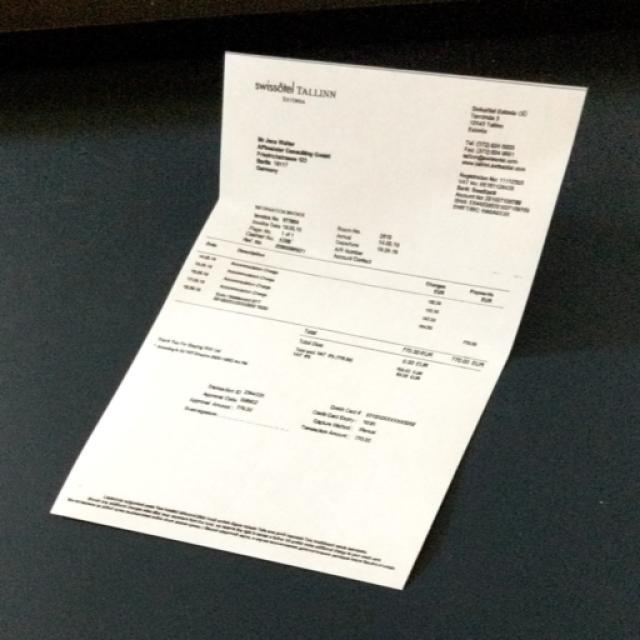document: (51, 52, 585, 589)
